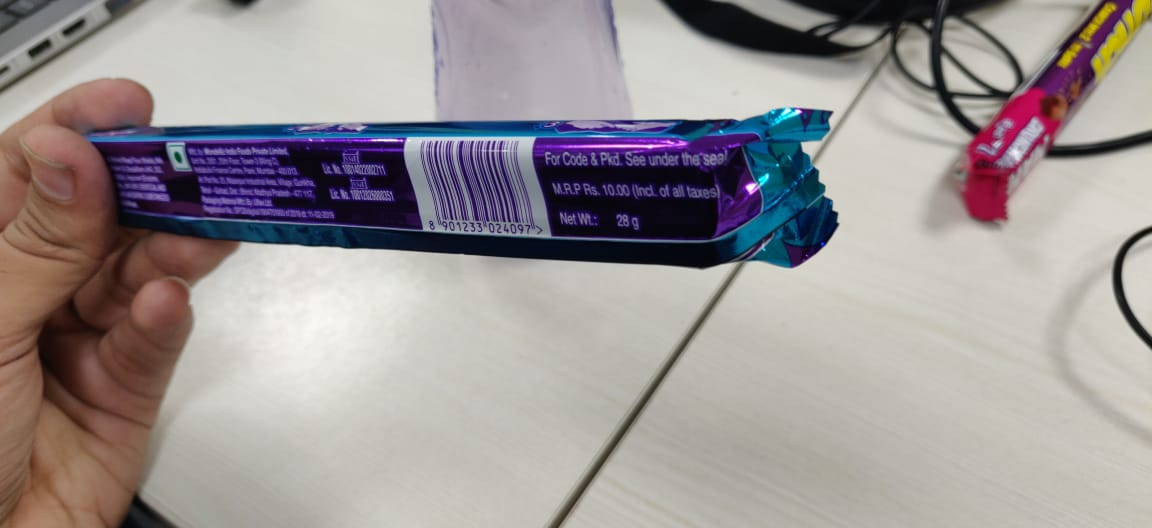perk: (67, 83, 886, 298)
